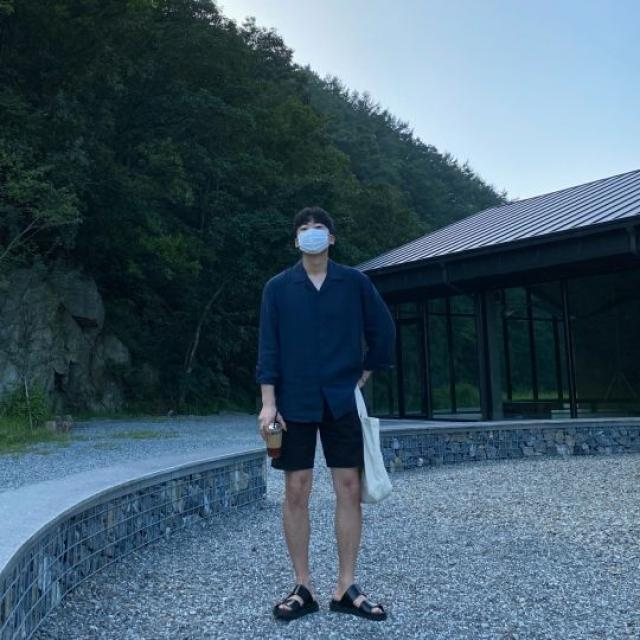shirt: (257, 255, 397, 426)
shortpants: (268, 408, 366, 471)
